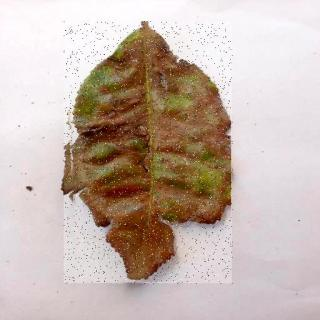Algal Leaf: (66, 23, 235, 285)
